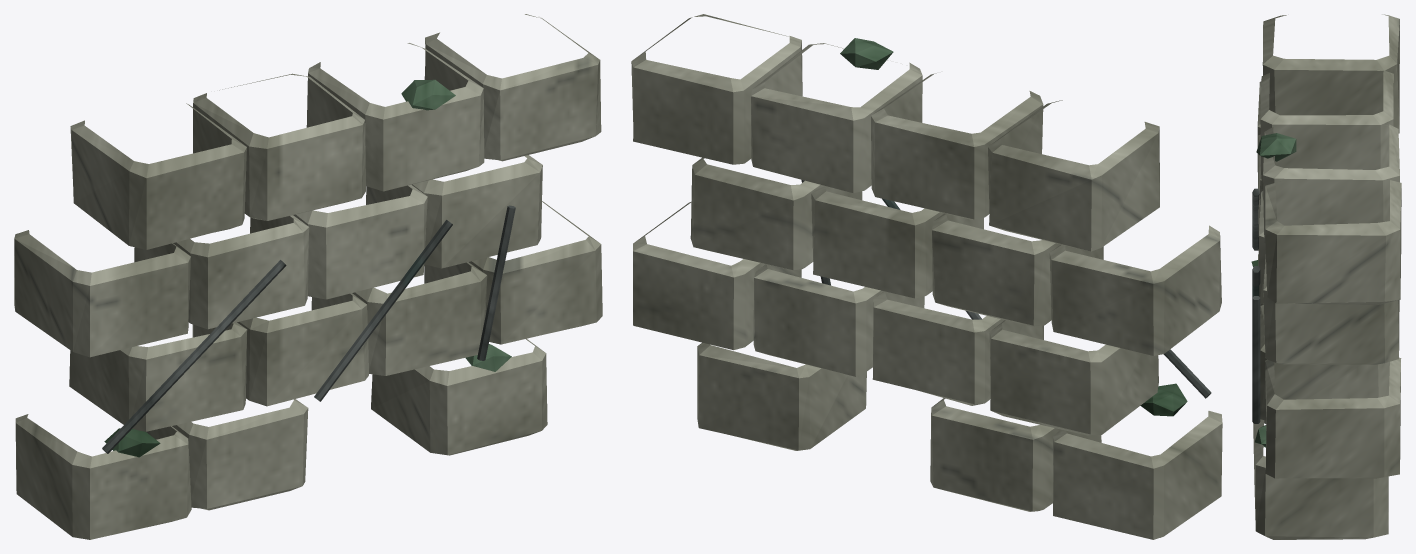
File: 0326_wall_section_01.glb
The picture shows the model from 3 angles, left to right: view 1: azimuth 30°, elevation 25°; view 2: azimuth 150°, elevation 25°; view 3: azimuth 270°, elevation 25°; orthographic projection. The views are drawn at different scales.
Parts seen in each view (by area): view 1: stone_light, iron, moss; view 2: stone_light, moss, iron; view 3: stone_light, iron, moss.
Boxes of the visible parts, box(x1,y1,x2,y2) form: stone_light: box(14, 14, 602, 539); iron: box(102, 205, 515, 453); moss: box(104, 79, 511, 457); stone_light: box(631, 14, 1222, 539); moss: box(840, 38, 1187, 416); iron: box(801, 180, 1211, 398); stone_light: box(1253, 14, 1401, 539); iron: box(1252, 188, 1260, 423); moss: box(1251, 133, 1296, 447).
Size of the model in its own units: 2.3 by 1.55 by 0.5926.
3 materials, 3 textured.
